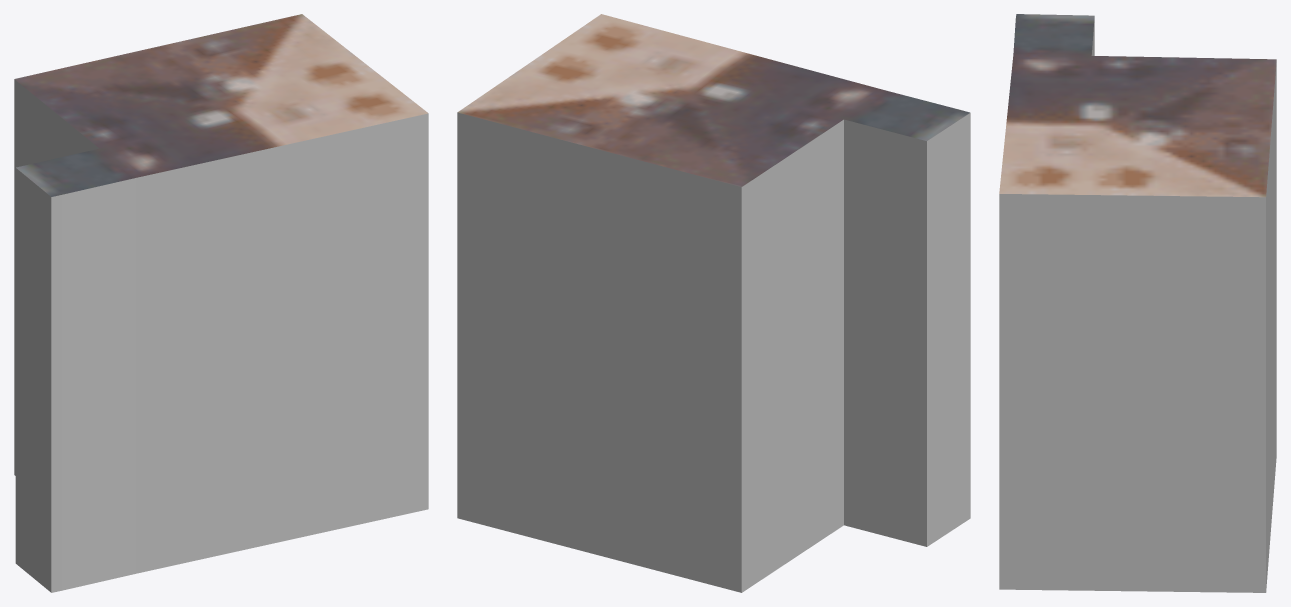
Rendered from DEBW_0010007Tx3v.gltf.
3 renders of one model, left to right at view 1: azimuth 30°, elevation 25°; view 2: azimuth 150°, elevation 25°; view 3: azimuth 270°, elevation 25°, orthographic. The views are drawn at different scales.
Parts seen in each view (by area): view 1: Z_UP; view 2: Z_UP; view 3: Z_UP.
Part boxes in pixels (x1,y1,x2,y2): Z_UP: (14,14,428,592); Z_UP: (457,14,970,592); Z_UP: (999,14,1276,592).
Size of the model in its own units: 14.67 by 14.77 by 9.39.
Materials: 2 (1 with a texture image).
